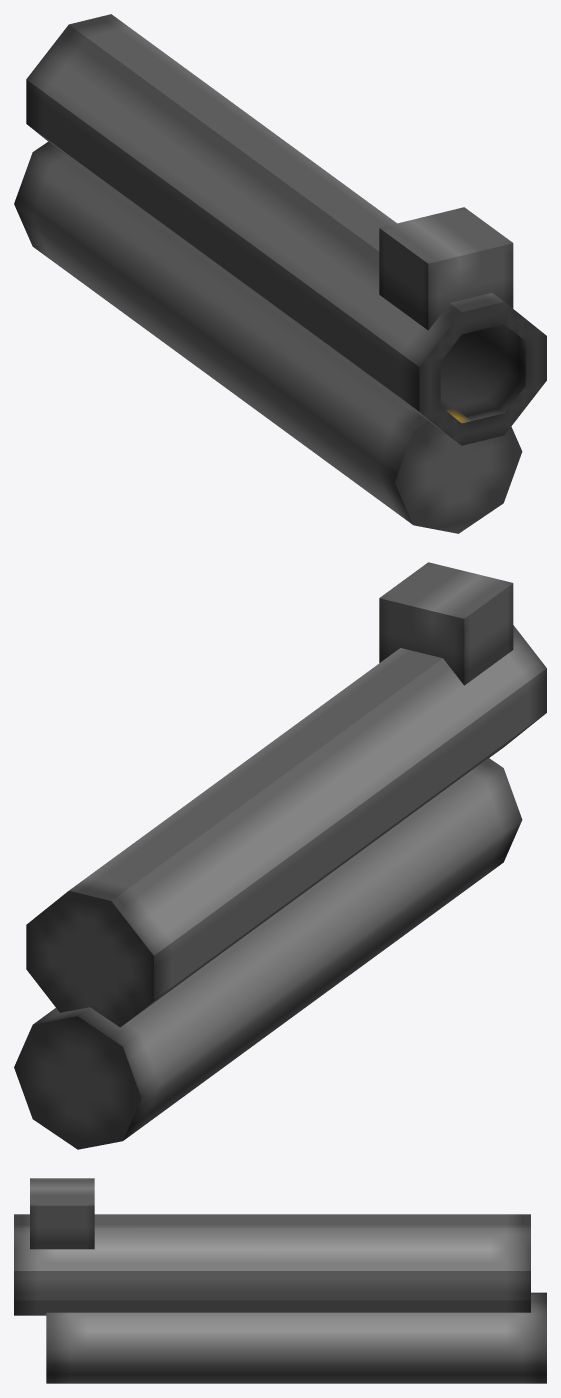
Rendered from henry_front_lincoln.obj.
The picture shows the model from 3 angles, top to bottom: view 1: azimuth 30°, elevation 25°; view 2: azimuth 150°, elevation 25°; view 3: azimuth 270°, elevation 25°; orthographic projection. The views are drawn at different scales.
Parts seen in each view (by area): view 1: Front; view 2: Front; view 3: Front.
Boxes of the visible parts, x1,y1,x2,y2 form: Front: (14,14,546,533); Front: (14,562,546,1149); Front: (14,1178,546,1383).
Bounding box in the file's own units: 0.375 × 0.8125 × 2.06.
